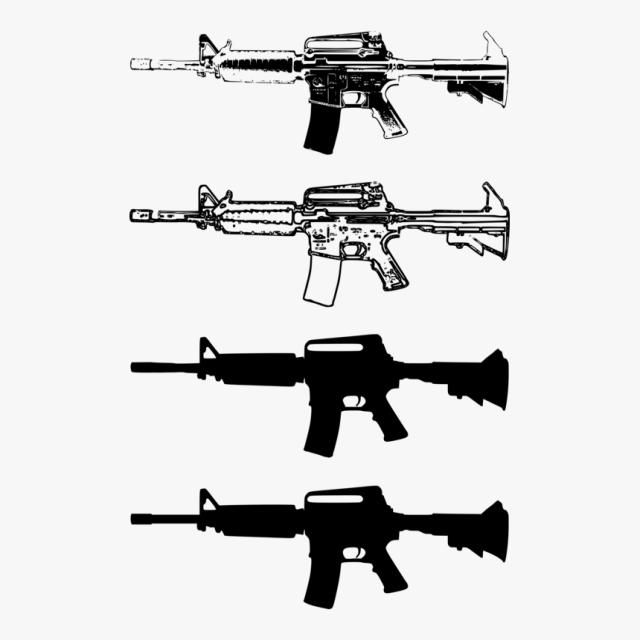Rifle: (127, 182, 509, 311), (128, 30, 508, 157), (129, 335, 509, 461), (129, 487, 509, 611)
